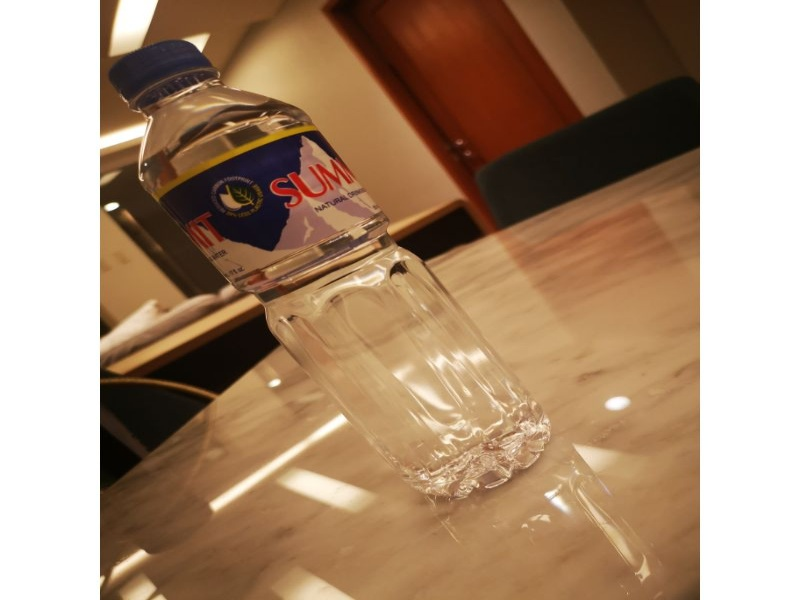PET #1: (102, 37, 552, 511)
